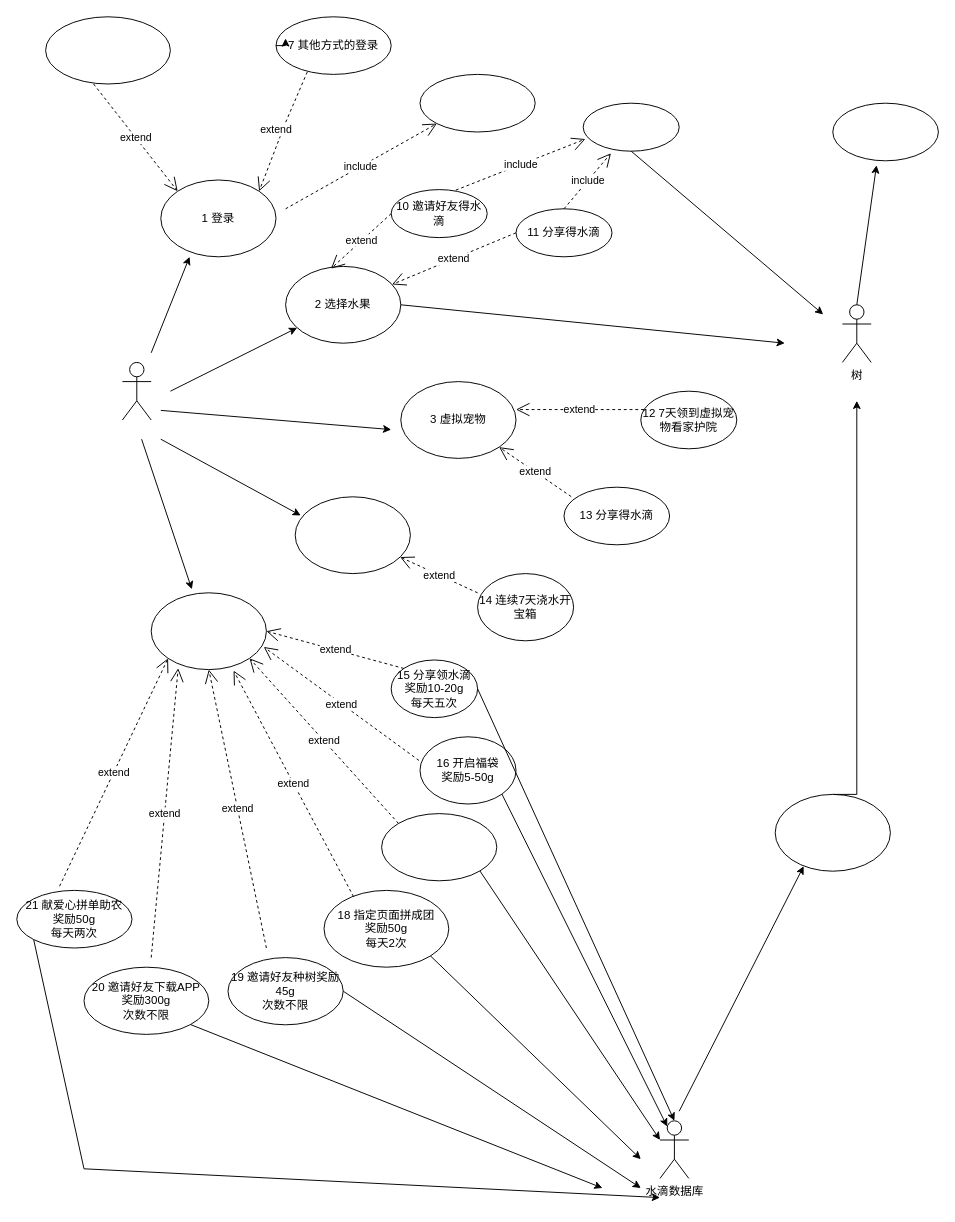
Some shapes in this 955 by 1222 pixel diagram are drawn without their labels. The centre of each missing label's shape, as x and y in pixels:
17 浏览商品1分钟 奖励20g 每天1次: point 439,847
22 浇水: point 832,832
23 果实成熟 获得果实: point 885,131
4 虚拟宝箱: point 352,535
5 领水滴任务: point 208,631
6 手机号登陆: point 107,50
8 账户输入: point 477,102
9 直接浇水: point 630,126
用户: point 136,390
